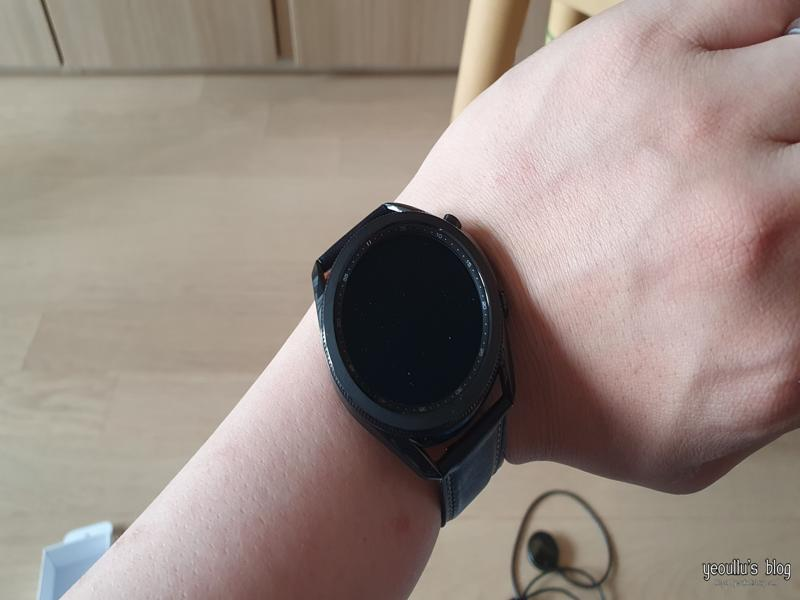watch: (311, 202, 518, 529)
